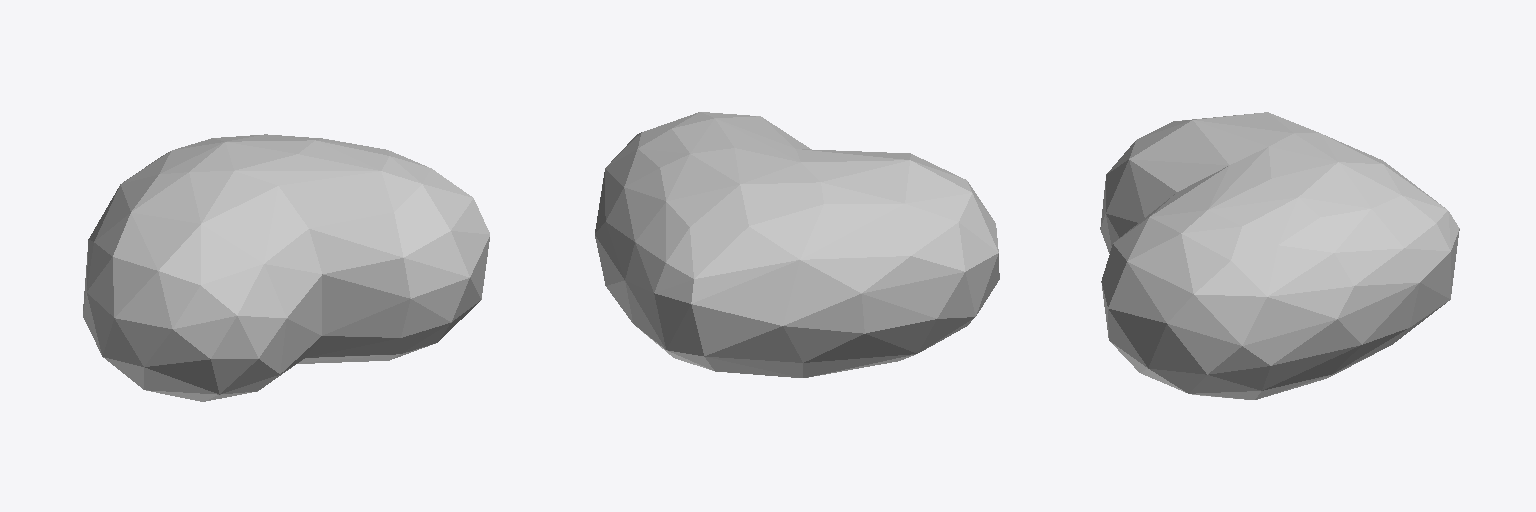
The model's file is heart2.obj.
3 views of the same model, side by side, from view 1: azimuth 30°, elevation 25°; view 2: azimuth 150°, elevation 25°; view 3: azimuth 270°, elevation 25° (orthographic).
Visible parts, largest first — view 1: Mesh1 heart_stl1 Model; view 2: Mesh1 heart_stl1 Model; view 3: Mesh1 heart_stl1 Model.
Boxes of the visible parts, x1,y1,x2,y2 form: Mesh1 heart_stl1 Model: [83, 134, 489, 401]; Mesh1 heart_stl1 Model: [595, 112, 999, 377]; Mesh1 heart_stl1 Model: [1100, 112, 1459, 399].
Size of the model in its own units: 0.0289 by 0.0143 by 0.0242.